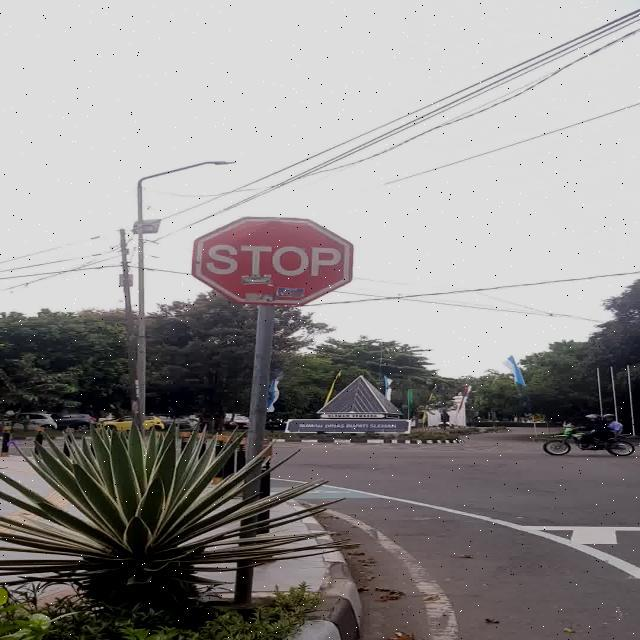Berhenti: (191, 216, 353, 304)
